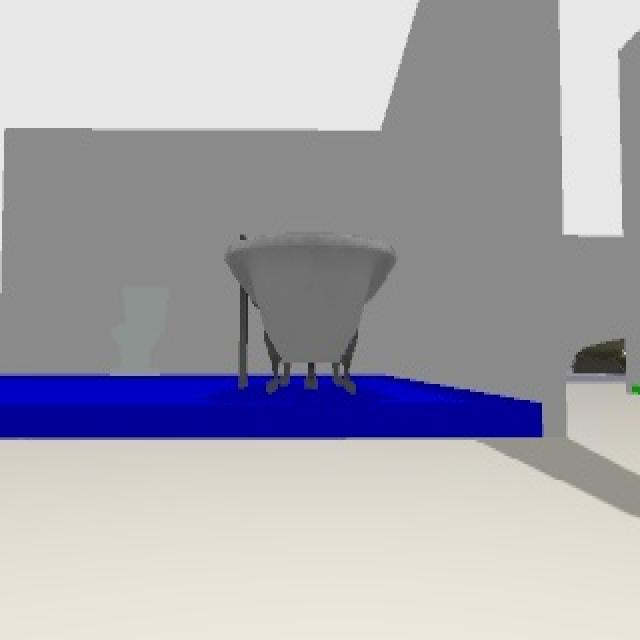bathtub: (224, 232, 400, 392)
